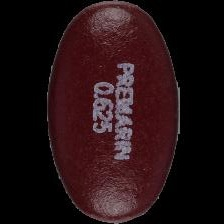0046-1102: (0, 0, 224, 224)
